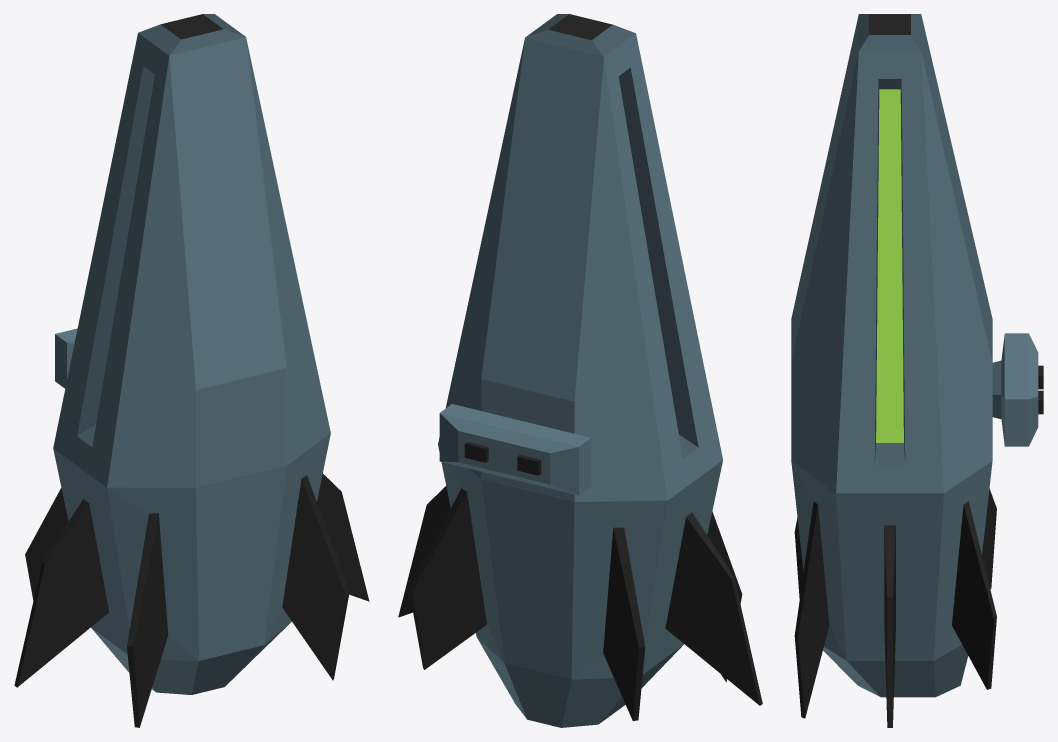
File: Endeavor.fbx
3 views of the same model, side by side, from view 1: azimuth 30°, elevation 25°; view 2: azimuth 150°, elevation 25°; view 3: azimuth 270°, elevation 25° (orthographic). The views are drawn at different scales.
Parts seen in each view (by area): view 1: Endeavor; view 2: Endeavor; view 3: Endeavor.
Boxes of the visible parts, <box> form: Endeavor: <box>14,14,369,727</box>; Endeavor: <box>398,14,762,727</box>; Endeavor: <box>791,14,1043,727</box>.
Bounding box in the file's own units: 754 × 1335 × 468.
